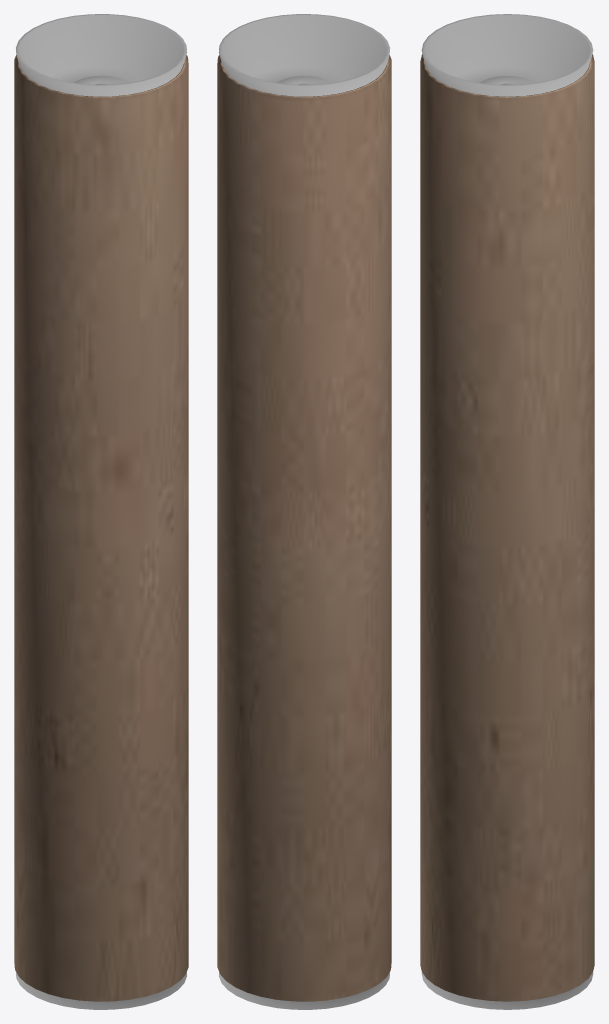
File: Bottle.gltf
The picture shows the model from 3 angles, left to right: view 1: azimuth 30°, elevation 25°; view 2: azimuth 150°, elevation 25°; view 3: azimuth 270°, elevation 25°; orthographic projection.
Visible parts, largest first — view 1: Cylinder, Cylinder.001, Cylinder.002; view 2: Cylinder, Cylinder.001, Cylinder.002; view 3: Cylinder, Cylinder.001, Cylinder.002.
Boxes of the visible parts, <box> form: Cylinder: <box>14,55,188,1001</box>; Cylinder.001: <box>16,14,187,96</box>; Cylinder.002: <box>15,971,186,1009</box>; Cylinder: <box>217,55,391,1001</box>; Cylinder.001: <box>218,14,389,96</box>; Cylinder.002: <box>219,971,390,1009</box>; Cylinder: <box>420,54,594,1001</box>; Cylinder.001: <box>421,14,593,96</box>; Cylinder.002: <box>421,972,593,1009</box>.
Size of the model in its own units: 2 by 11.68 by 2.
2 materials, 1 textured.
